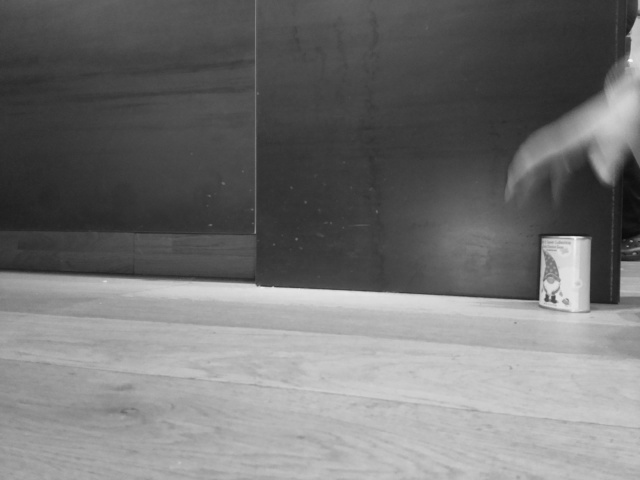gnome: (540, 249, 572, 307)
